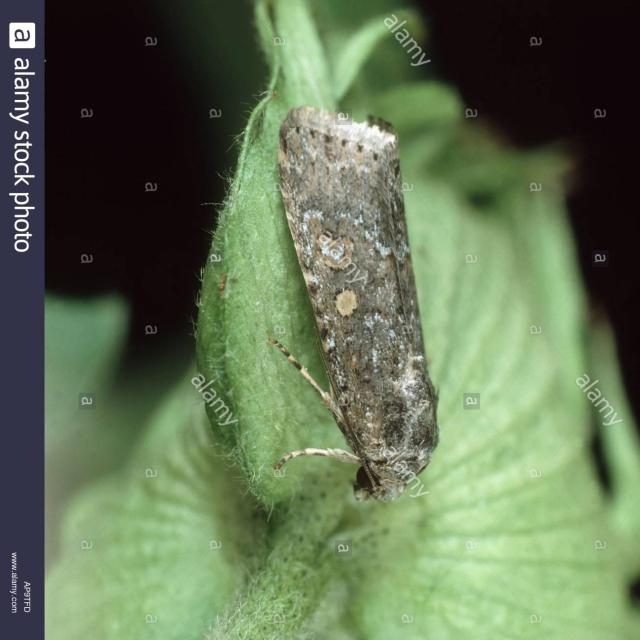army worm: (293, 107, 448, 512)
